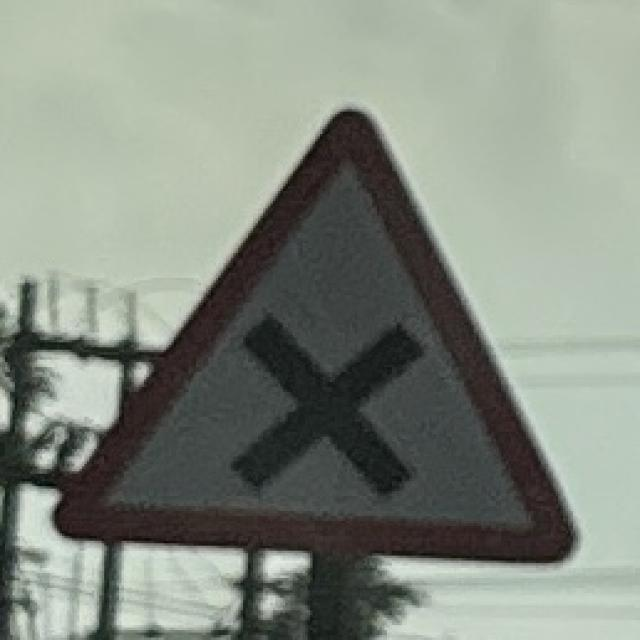CROSS_ROAD: (44, 93, 586, 569)
